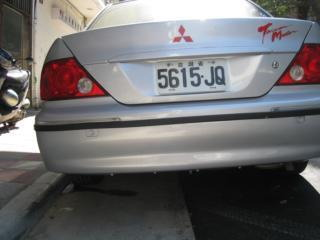plate: (154, 57, 229, 97)
